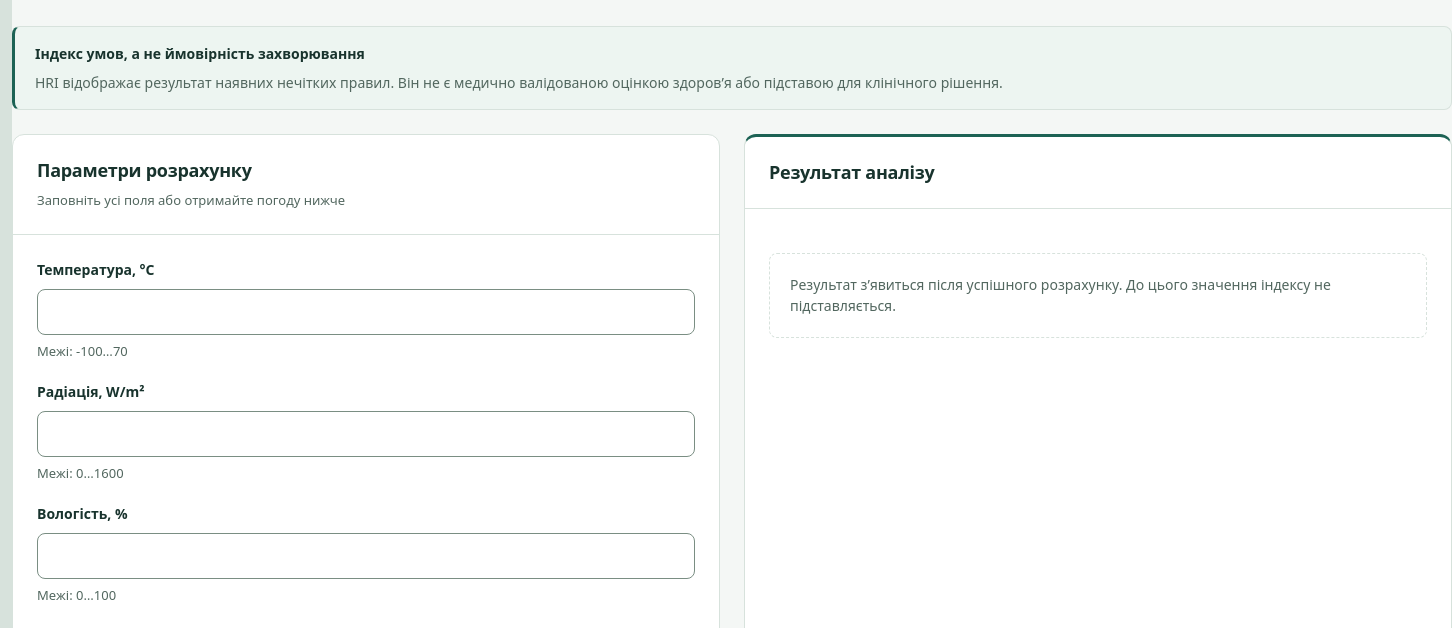
Test: HRI scenario › posts numeric parameters and displays index, effective inputs and medical limitation
This screenshot has width=1452, height=628.
Later steps or results of the test are not shown.
Type "20" into the number field labelled "Температура, °C" at x=366, y=312, box top-left (37, 288), bottom-right (695, 334)
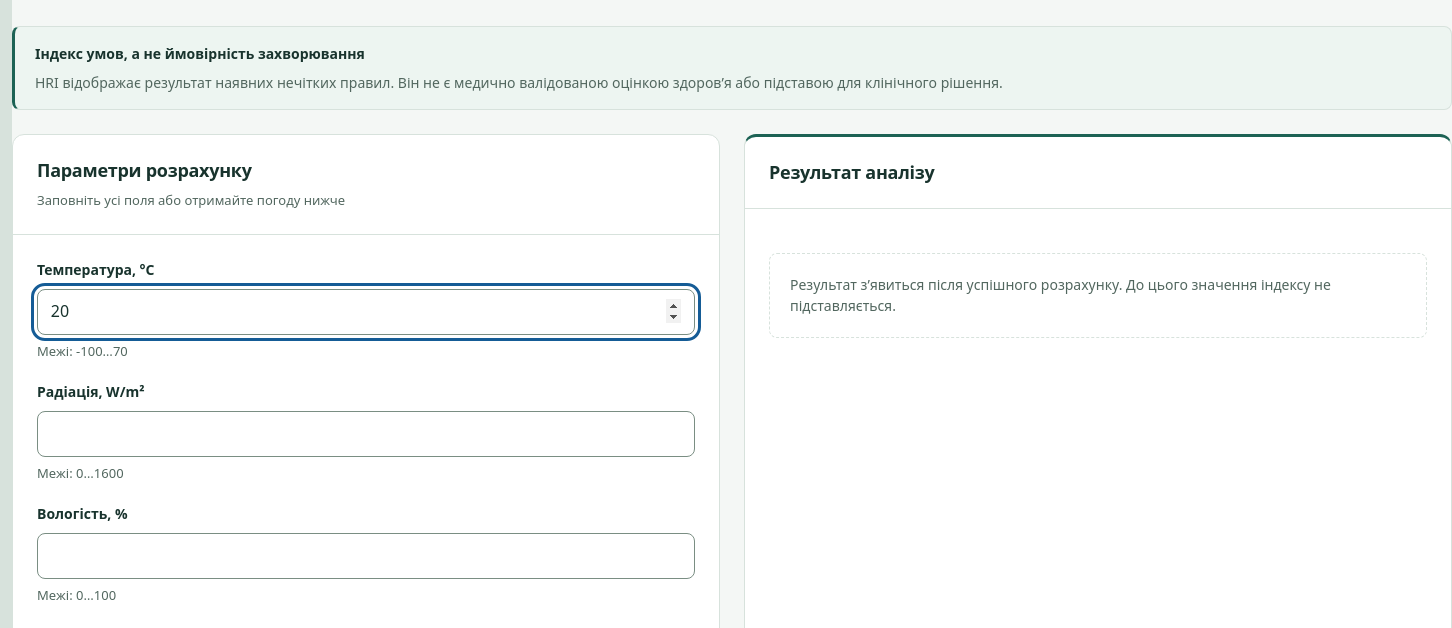
Type "180" into the number field labelled "Радіація, W/m²" at x=366, y=434, box top-left (37, 411), bottom-right (695, 457)
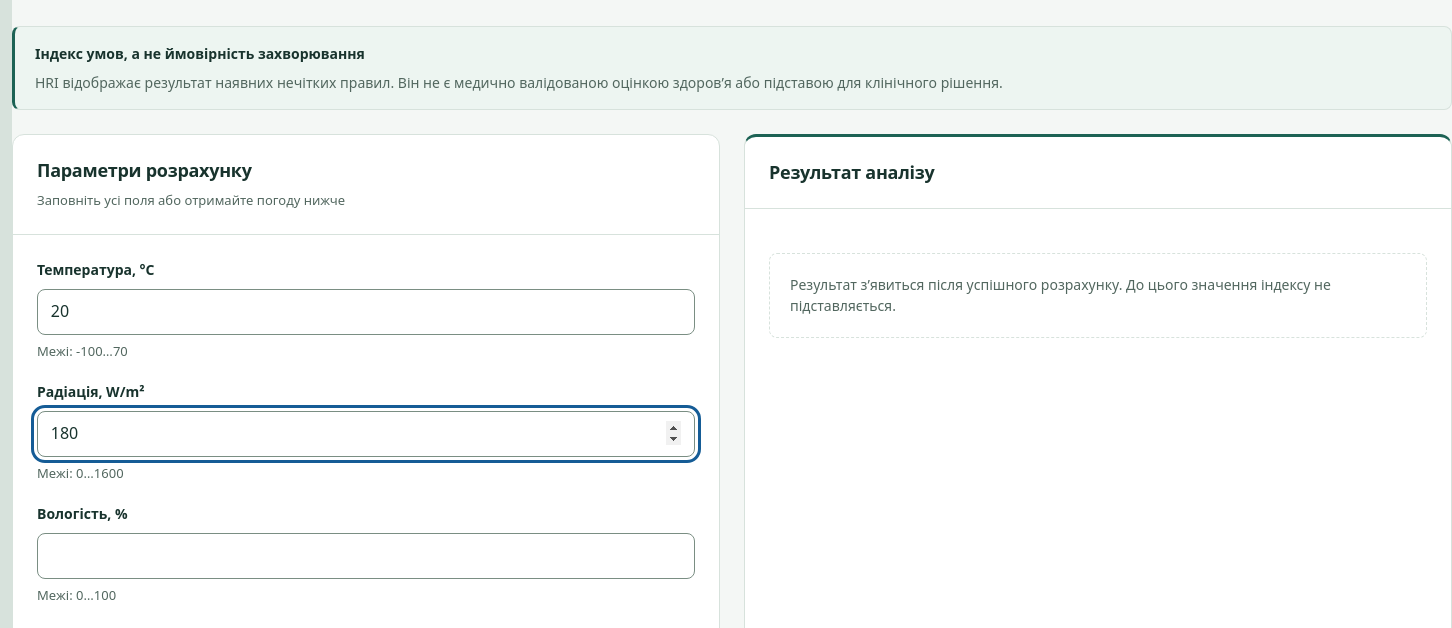
Type "65" into the number field labelled "Вологість, %" at x=366, y=556, box top-left (37, 533), bottom-right (695, 579)
(page scrolled)
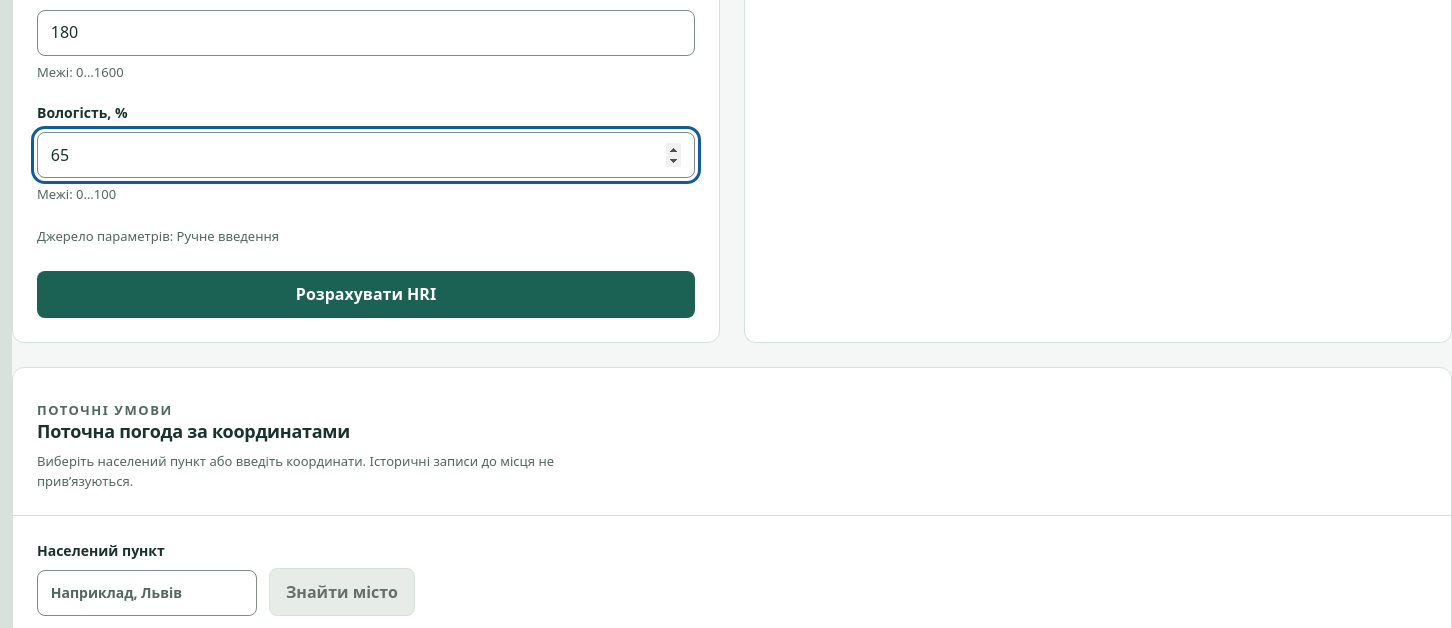
Click the button "Розрахувати HRI" at x=366, y=294, box top-left (37, 271), bottom-right (695, 318)
(page scrolled)
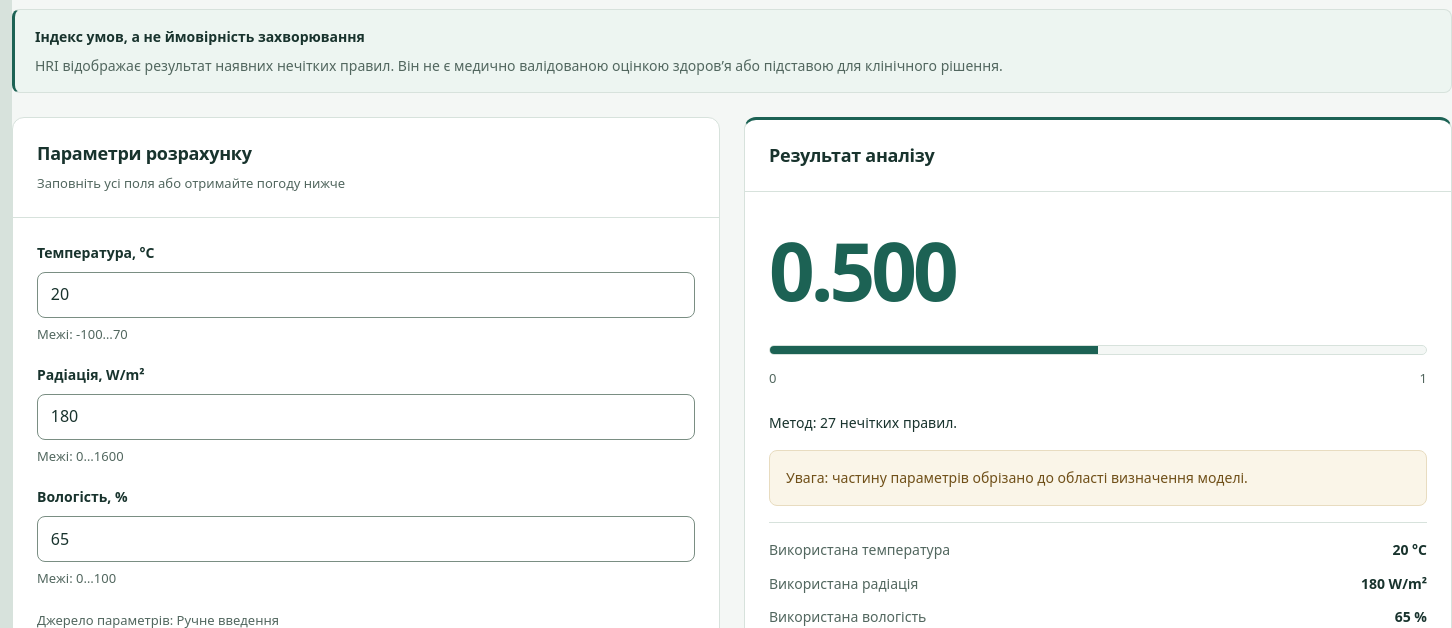
Expected: the text "не є медично валідованою" is shown, top-left (35, 56), bottom-right (1003, 74)
Now the text named "Числовий індекс HRI" reads "0.500", box top-left (769, 215), bottom-right (955, 324)
Now the text "частину параметрів обрізано" is shown, box top-left (786, 468), bottom-right (1248, 486)
